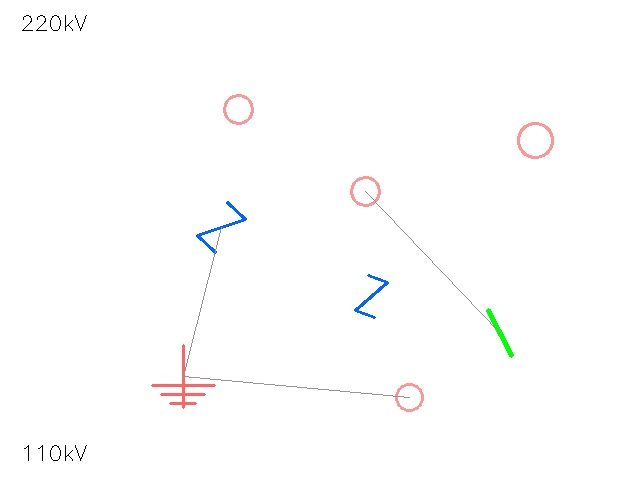busbar: (468, 301, 532, 365)
circuit_breaker: (196, 202, 246, 252), (350, 275, 392, 317)
disconnect_switch: (382, 370, 436, 424)
ground: (152, 345, 214, 407)
load_break_switch: (209, 80, 267, 138), (336, 162, 394, 220)
surge_arrester: (501, 106, 569, 174)
